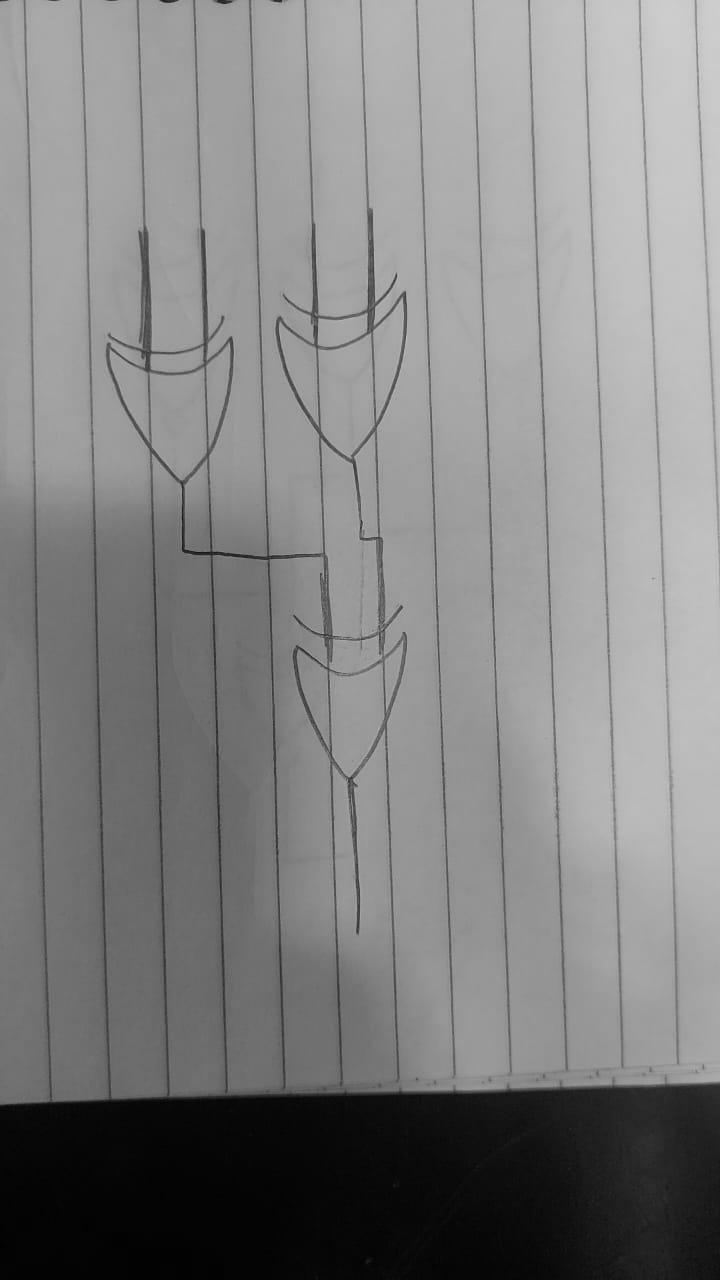XOR: (259, 588, 442, 806), (264, 248, 437, 470), (102, 310, 259, 504)
